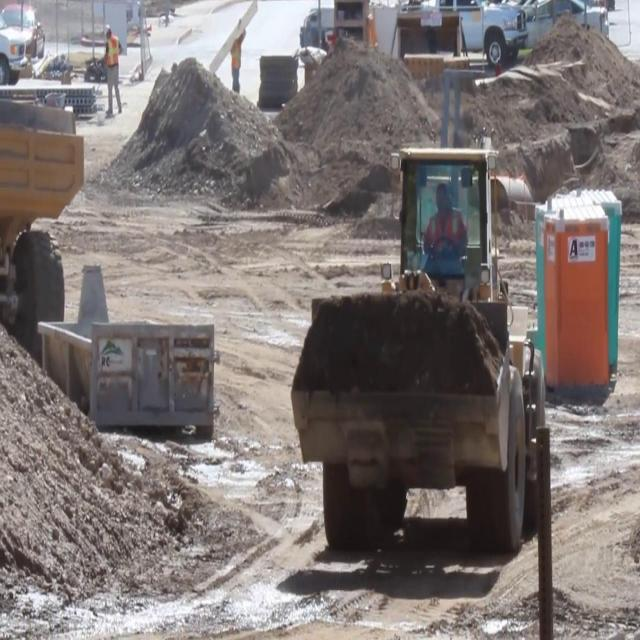Dump Truck: (0, 104, 88, 343)
Loader: (289, 148, 551, 554)
